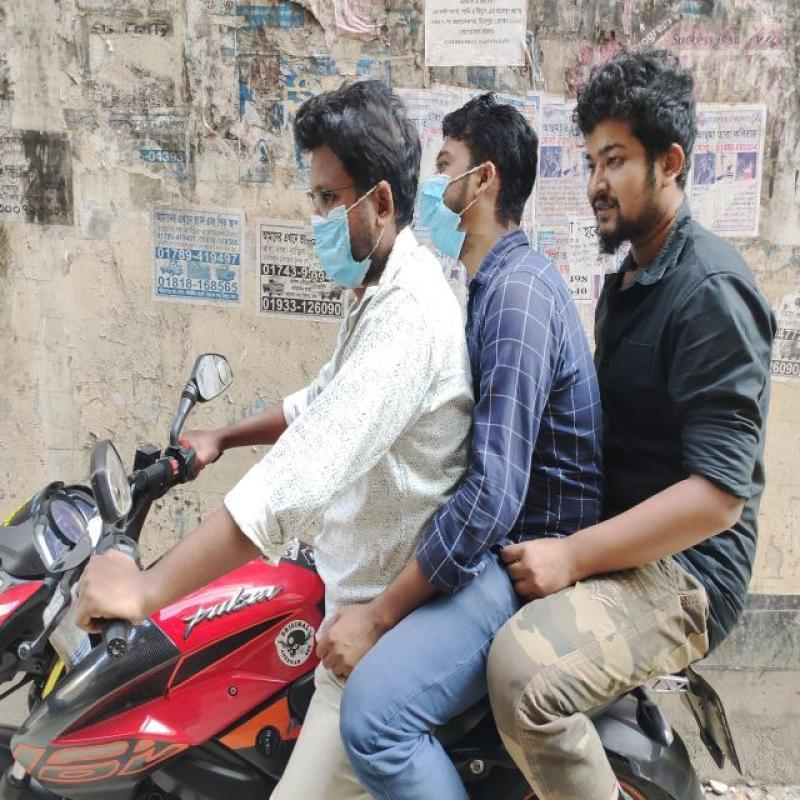nohelmet: (566, 58, 692, 274), (294, 90, 397, 292), (418, 82, 522, 236)
